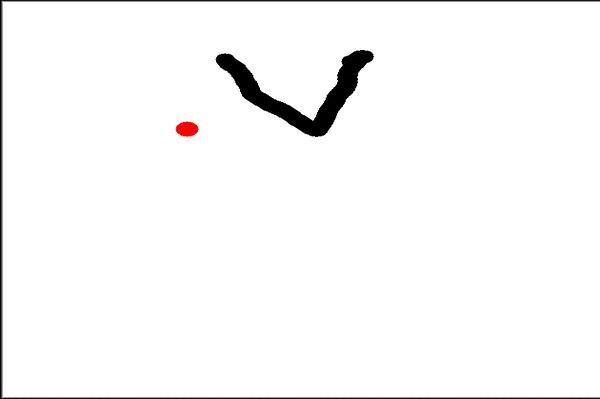V: (210, 44, 379, 141)
